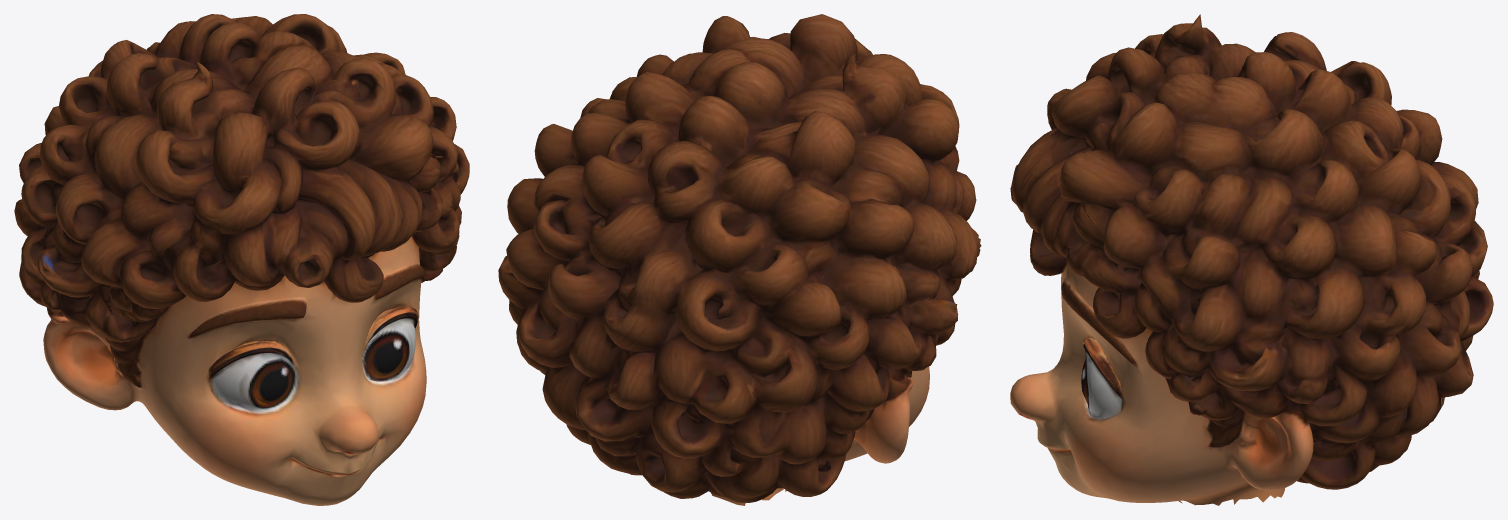
The model's file is seed_boy_head.glb.
The picture shows the model from 3 angles, left to right: view 1: azimuth 30°, elevation 25°; view 2: azimuth 150°, elevation 25°; view 3: azimuth 270°, elevation 25°; orthographic projection. The views are drawn at different scales.
Parts seen in each view (by area): view 1: Head; view 2: Head; view 3: Head.
Part boxes in pixels (left/top/right/bottom): Head: left=14, top=14, right=469, bottom=505; Head: left=498, top=14, right=981, bottom=505; Head: left=1010, top=14, right=1493, bottom=505.
Size of the model in its own units: 1.77 by 1.78 by 1.77.
1 material, 1 textured.
